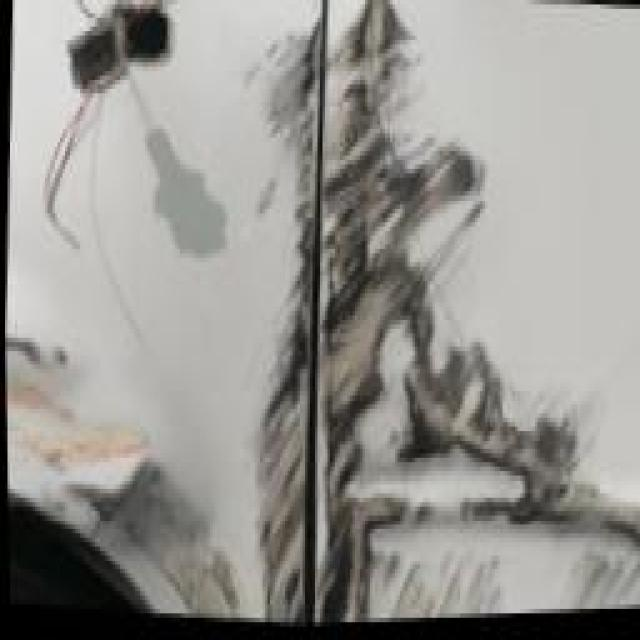Fender: (4, 0, 322, 625)
